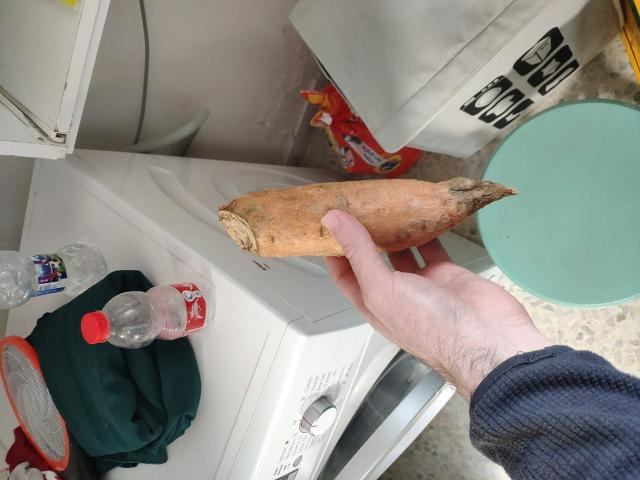sweet_potato: (246, 179, 507, 274)
